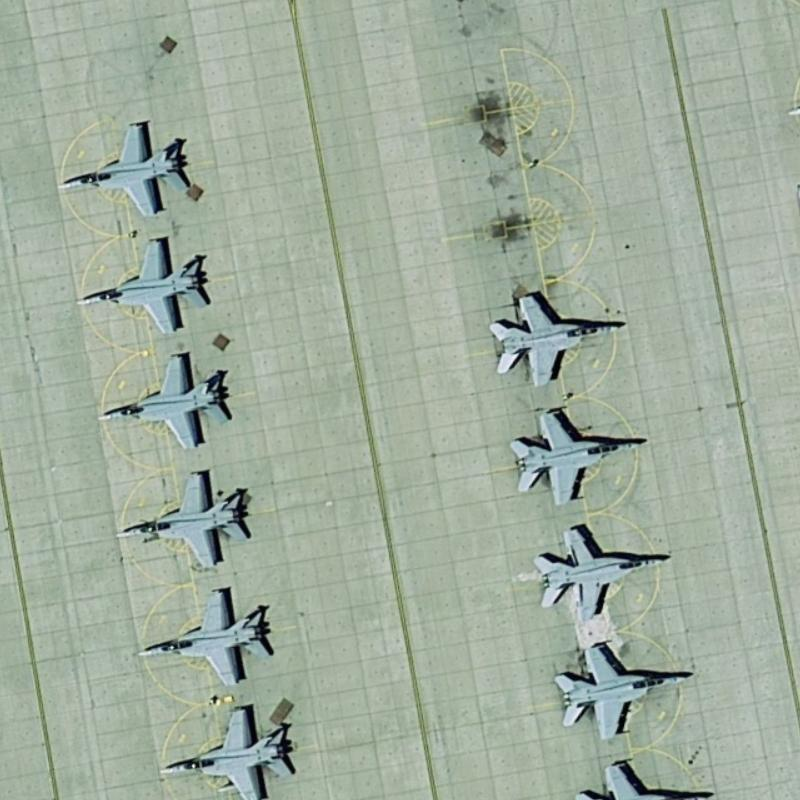A16: (126, 584, 279, 690), (501, 406, 652, 512), (91, 345, 236, 455), (549, 634, 694, 744), (525, 520, 675, 626), (108, 463, 254, 569), (67, 232, 214, 337), (481, 289, 631, 389), (50, 114, 194, 218), (152, 701, 299, 799)
